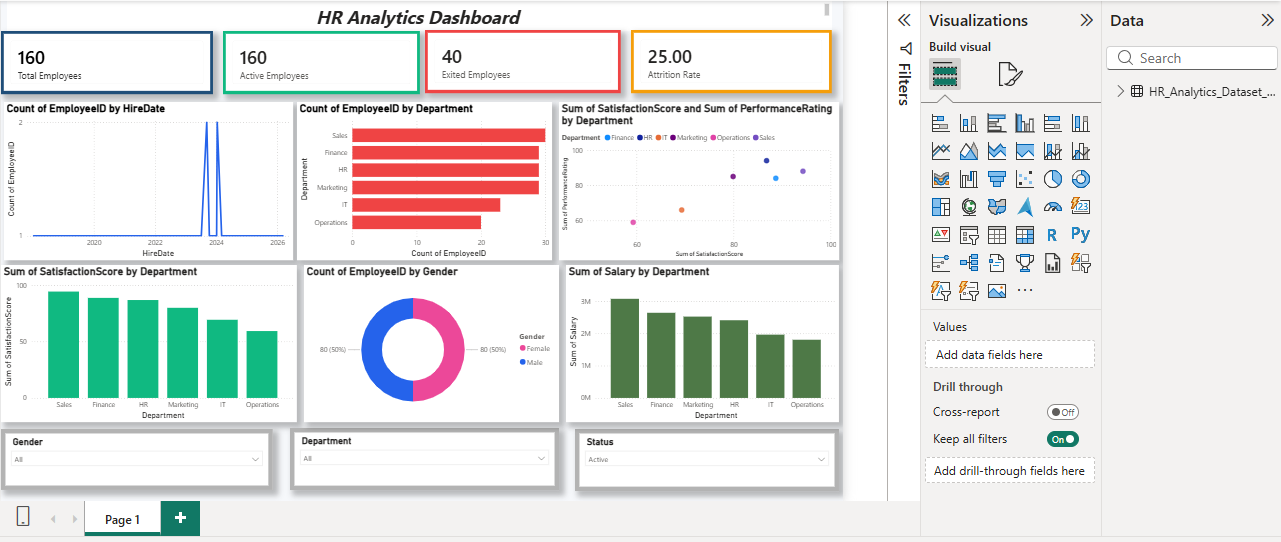

Layout of this report page (visuals, bound fields, positions):
{"tool":"powerbi","page":{"name":"Page 1","canvas":[1504,894],"ordinal":0},"visuals":[{"type":"textbox","box":[10.7,0,1475.1,53.6],"z":0},{"type":"cardVisual","fields":{"Data":["HR_Analytics_Dataset_Internship.Total Employees"]},"box":[0,53.6,379.1,112.6],"z":1000},{"type":"cardVisual","fields":{"Data":["HR_Analytics_Dataset_Internship.Active Employees"]},"box":[396.9,53.6,352.2,112.6],"z":2000},{"type":"cardVisual","fields":{"Data":["HR_Analytics_Dataset_Internship.Exited Employees"]},"box":[758.1,51.9,350.4,112.6],"z":3000},{"type":"cardVisual","fields":{"Data":["HR_Analytics_Dataset_Internship.Attrition Rate"]},"box":[1126.4,51.9,359.4,112.6],"z":4000},{"type":"lineChart","fields":{"Category":["HR_Analytics_Dataset_Internship.HireDate"],"Y":["CountNonNull(HR_Analytics_Dataset_Internship.EmployeeID)"]},"box":[5.4,180.6,516.7,282.5],"z":5000},{"type":"clusteredBarChart","fields":{"Category":["HR_Analytics_Dataset_Internship.Department"],"Y":["CountNonNull(HR_Analytics_Dataset_Internship.EmployeeID)"]},"box":[529.2,180.6,455.9,282.5],"z":6000},{"type":"clusteredColumnChart","fields":{"Category":["HR_Analytics_Dataset_Internship.Department"],"Y":["Sum(HR_Analytics_Dataset_Internship.SatisfactionScore)"]},"box":[0,472,529.2,280.7],"z":7000},{"type":"scatterChart","fields":{"X":["Sum(HR_Analytics_Dataset_Internship.SatisfactionScore)"],"Y":["Sum(HR_Analytics_Dataset_Internship.PerformanceRating)"],"Series":["HR_Analytics_Dataset_Internship.Department"]},"box":[997.7,180.6,500.6,282.5],"z":8000},{"type":"slicer","fields":{"Values":["HR_Analytics_Dataset_Internship.Gender"]},"box":[0,765.3,486.3,109.1],"z":9000},{"type":"slicer","fields":{"Values":["HR_Analytics_Dataset_Internship.Department"]},"box":[516.7,763.5,481,110.9],"z":10000},{"type":"slicer","fields":{"Values":["HR_Analytics_Dataset_Internship.Status"]},"box":[1026.3,765.3,472,110.9],"z":11000},{"type":"donutChart","fields":{"Category":["HR_Analytics_Dataset_Internship.Gender"],"Y":["CountNonNull(HR_Analytics_Dataset_Internship.EmployeeID)"]},"box":[541.8,472,455.9,280.7],"z":12000},{"type":"clusteredColumnChart","fields":{"Y":["Sum(HR_Analytics_Dataset_Internship.Salary)"],"Category":["HR_Analytics_Dataset_Internship.Department"]},"box":[1010.2,472,488.1,280.7],"z":13000}]}

Visuals, with their boxes on the page's 1504x894 design canvas (x1, y1, x2, y2). These are canvas units, not pixel positions in the 1281x542 screenshot, which may show the page scaled, cropped or inside an application window:
textbox: [x1=11, y1=0, x2=1486, y2=54]
cardVisual - HR_Analytics_Dataset_Internship.Total Employees: [x1=0, y1=54, x2=379, y2=166]
cardVisual - HR_Analytics_Dataset_Internship.Active Employees: [x1=397, y1=54, x2=749, y2=166]
cardVisual - HR_Analytics_Dataset_Internship.Exited Employees: [x1=758, y1=52, x2=1108, y2=164]
cardVisual - HR_Analytics_Dataset_Internship.Attrition Rate: [x1=1126, y1=52, x2=1486, y2=164]
lineChart - HR_Analytics_Dataset_Internship.HireDate x CountNonNull(HR_Analytics_Dataset_Internship.EmployeeID): [x1=5, y1=181, x2=522, y2=463]
clusteredBarChart - HR_Analytics_Dataset_Internship.Department x CountNonNull(HR_Analytics_Dataset_Internship.EmployeeID): [x1=529, y1=181, x2=985, y2=463]
clusteredColumnChart - HR_Analytics_Dataset_Internship.Department x Sum(HR_Analytics_Dataset_Internship.SatisfactionScore): [x1=0, y1=472, x2=529, y2=753]
scatterChart - Sum(HR_Analytics_Dataset_Internship.SatisfactionScore) x Sum(HR_Analytics_Dataset_Internship.PerformanceRating): [x1=998, y1=181, x2=1498, y2=463]
slicer - HR_Analytics_Dataset_Internship.Gender: [x1=0, y1=765, x2=486, y2=874]
slicer - HR_Analytics_Dataset_Internship.Department: [x1=517, y1=764, x2=998, y2=874]
slicer - HR_Analytics_Dataset_Internship.Status: [x1=1026, y1=765, x2=1498, y2=876]
donutChart - HR_Analytics_Dataset_Internship.Gender x CountNonNull(HR_Analytics_Dataset_Internship.EmployeeID): [x1=542, y1=472, x2=998, y2=753]
clusteredColumnChart - Sum(HR_Analytics_Dataset_Internship.Salary) x HR_Analytics_Dataset_Internship.Department: [x1=1010, y1=472, x2=1498, y2=753]
